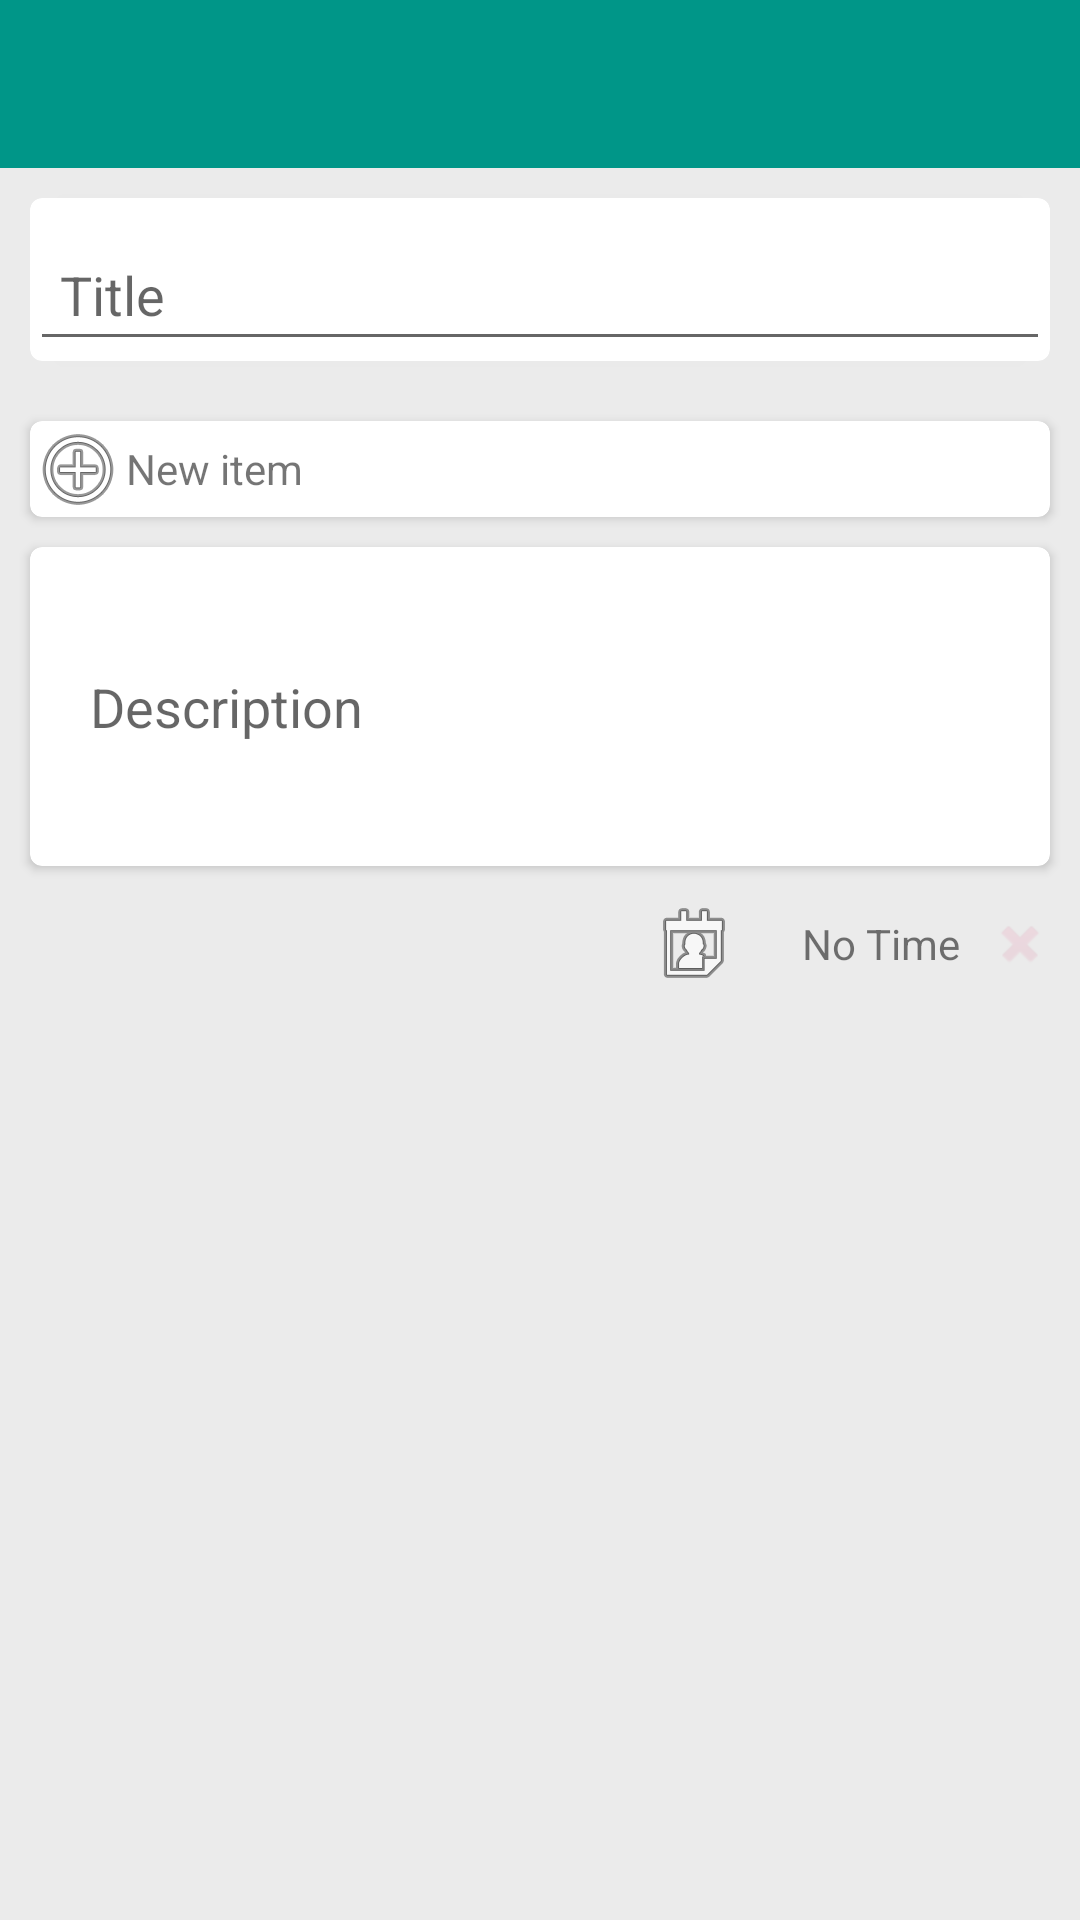

Point at icon controls on the screen. Image size 1080px×1920px, points as (x=x, y=y).
Add a check list item to the note: (x=78, y=469)
Open Calendar: (x=694, y=943)
